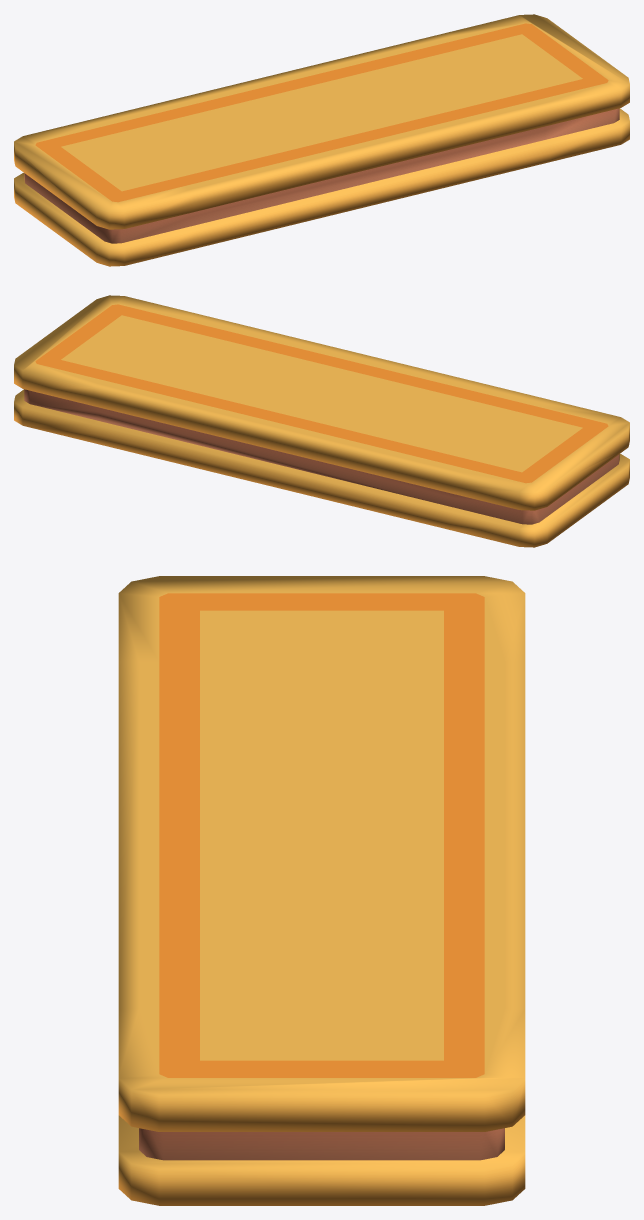
File: seesaw.glb
3 renders of one model, top to bottom at view 1: azimuth 30°, elevation 25°; view 2: azimuth 150°, elevation 25°; view 3: azimuth 270°, elevation 25°, orthographic. The views are drawn at different scales.
Visible parts, largest first — view 1: block-moving; view 2: block-moving; view 3: block-moving.
Boxes of the visible parts, x1,y1,x2,y2 form: block-moving: [14, 14, 629, 266]; block-moving: [14, 295, 629, 547]; block-moving: [118, 576, 525, 1205].
Size of the model in its own units: 3.02 by 0.3 by 1.
1 material, 1 textured.
